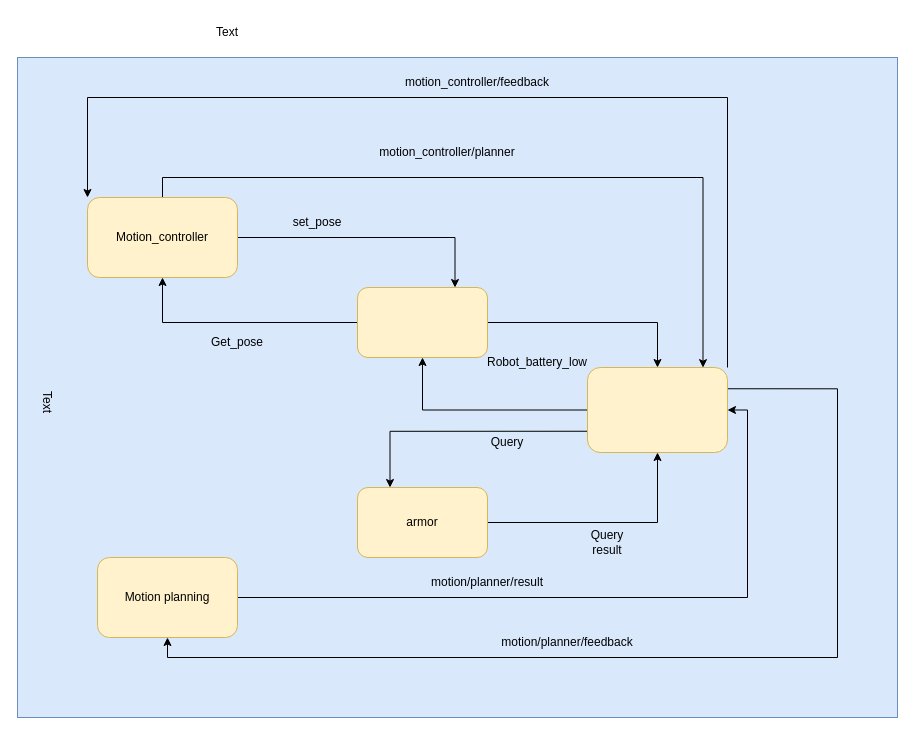
Some shapes in this 915 by 735 pixel diagram are drawn without their labels. Each missing label, with the centre of its shape:
Robot state: the point at 422,322
Robot_state_machine: the point at 657,409
